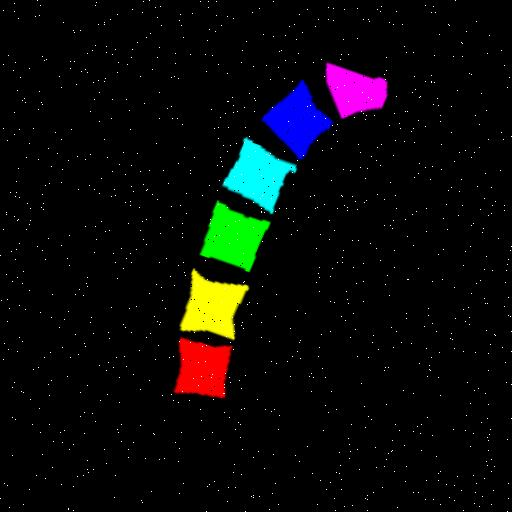L1: (181, 339, 238, 397)
L2: (187, 268, 253, 339)
L3: (204, 202, 272, 271)
L4: (226, 140, 298, 214)
L5: (264, 84, 334, 159)
S1: (328, 65, 389, 118)
